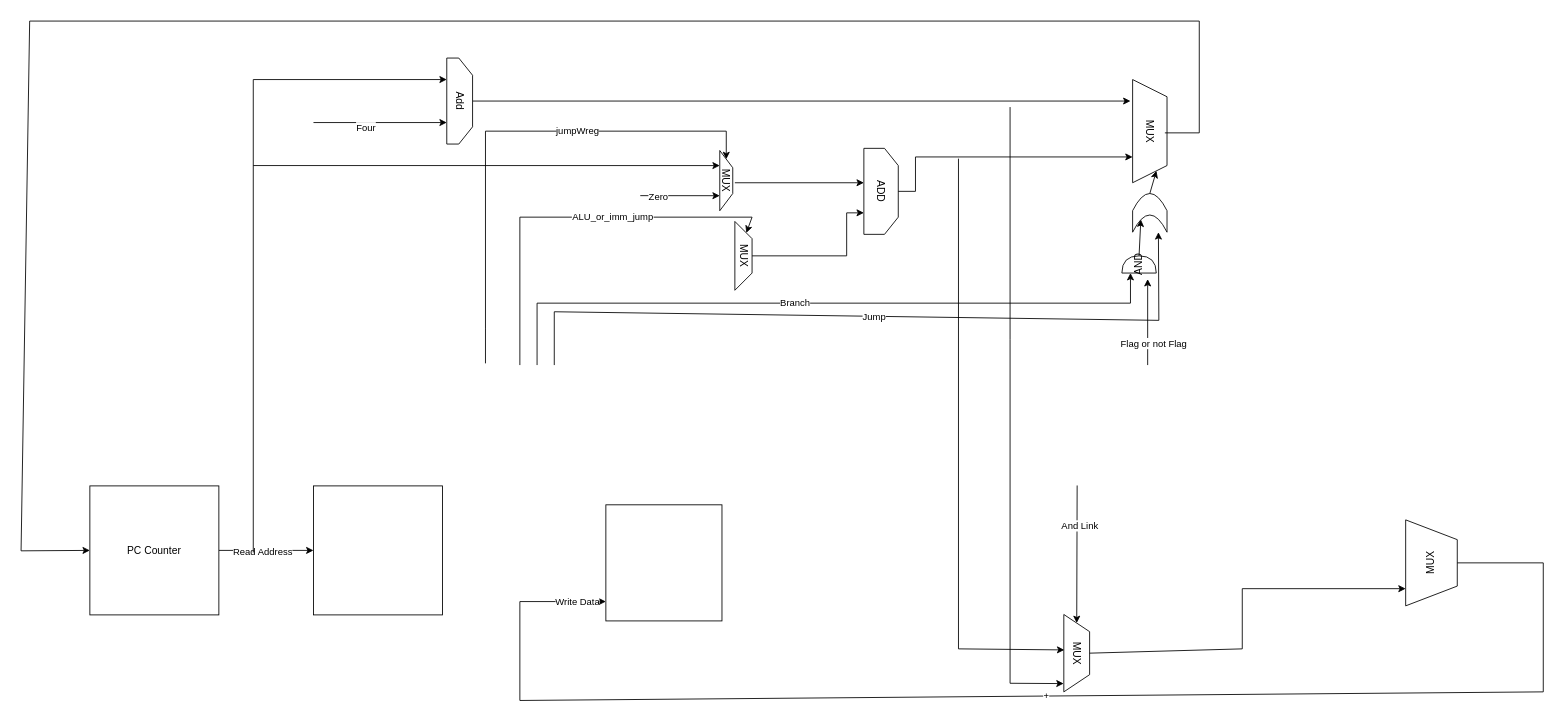
Image size: 1565x722. Some labels were removed from this diagram. The shapes that lost their labels are listed below. From the top down, each one's centre as x and y in pixels, then its label:
the point at 1149,212: OR
the point at 377,550: Instruction memory
the point at 663,562: Register
